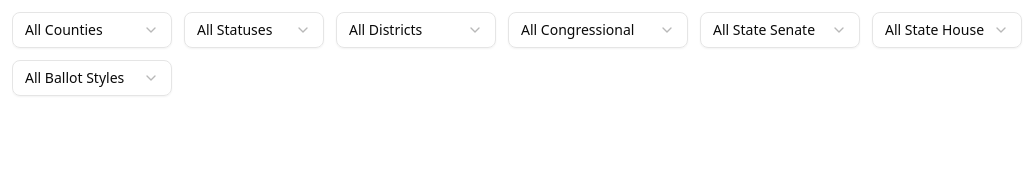
Test case: ParticipantFilters › ballot style dropdown includes options from stats method_breakdown
This screenshot has width=1036, height=184.
// Open the ballot style dropdown to see options
Click the dropdown named "filter by ballot style".
click(92, 78)  # box [12,60,172,96]
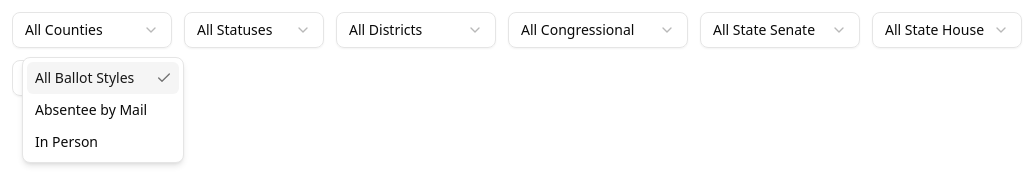
expect the option "Absentee by Mail" is shown: met, box [35,100,147,119]
expect the option "In Person" is shown: met, box [35,132,98,151]
